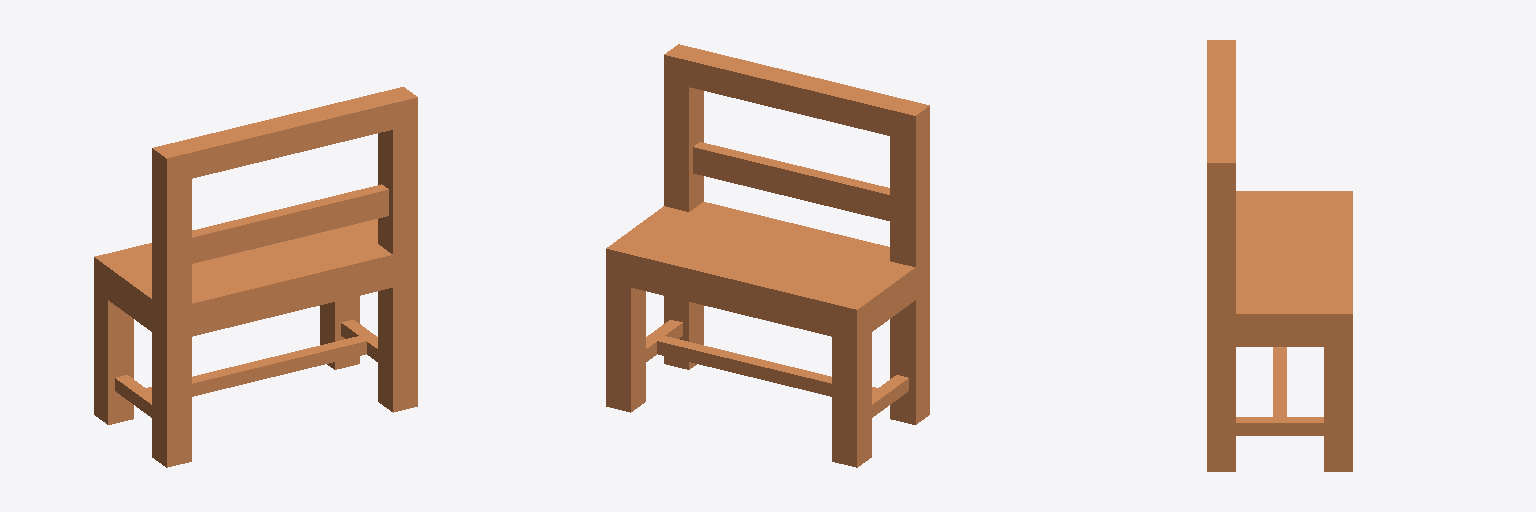
3 renders of one model, left to right at view 1: azimuth 30°, elevation 25°; view 2: azimuth 150°, elevation 25°; view 3: azimuth 270°, elevation 25°, orthographic.
Parts seen in each view (by area): view 1: bench; view 2: bench; view 3: bench.
Part boxes in pixels (x1,y1,x2,y2): bench: (94,87,417,467); bench: (606,44,929,467); bench: (1207,40,1352,471).
Bounding box in the file's own units: 0.8511 × 1 × 0.4255.